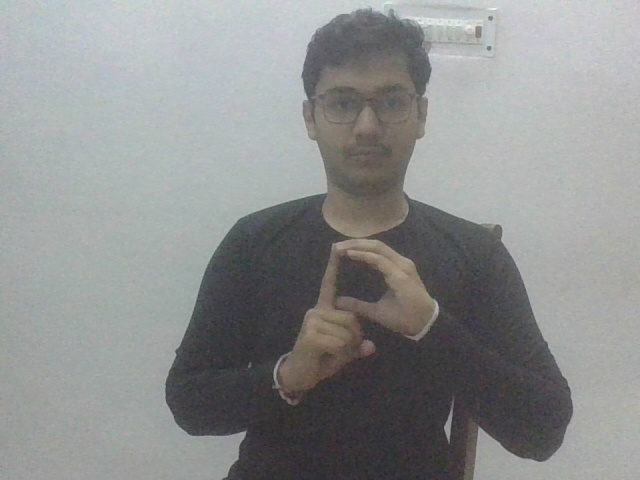D: (274, 234, 438, 399)
